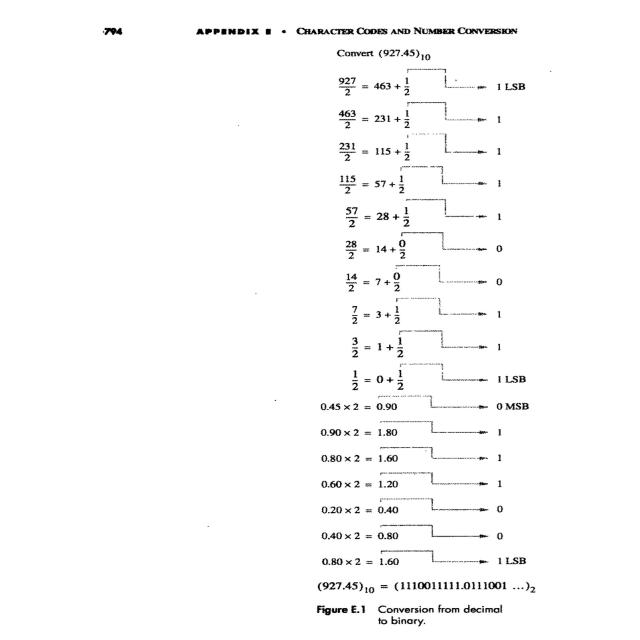diagram: (254, 36, 603, 640)
